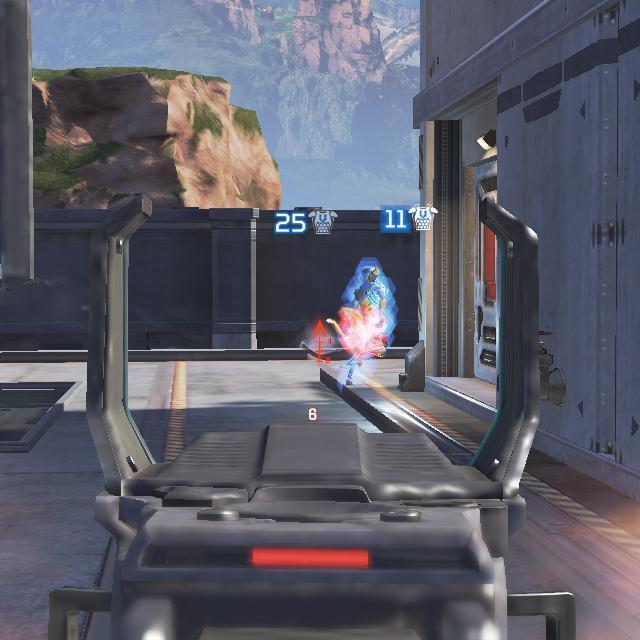avatar: (337, 258, 398, 389)
object: (335, 305, 391, 362)
